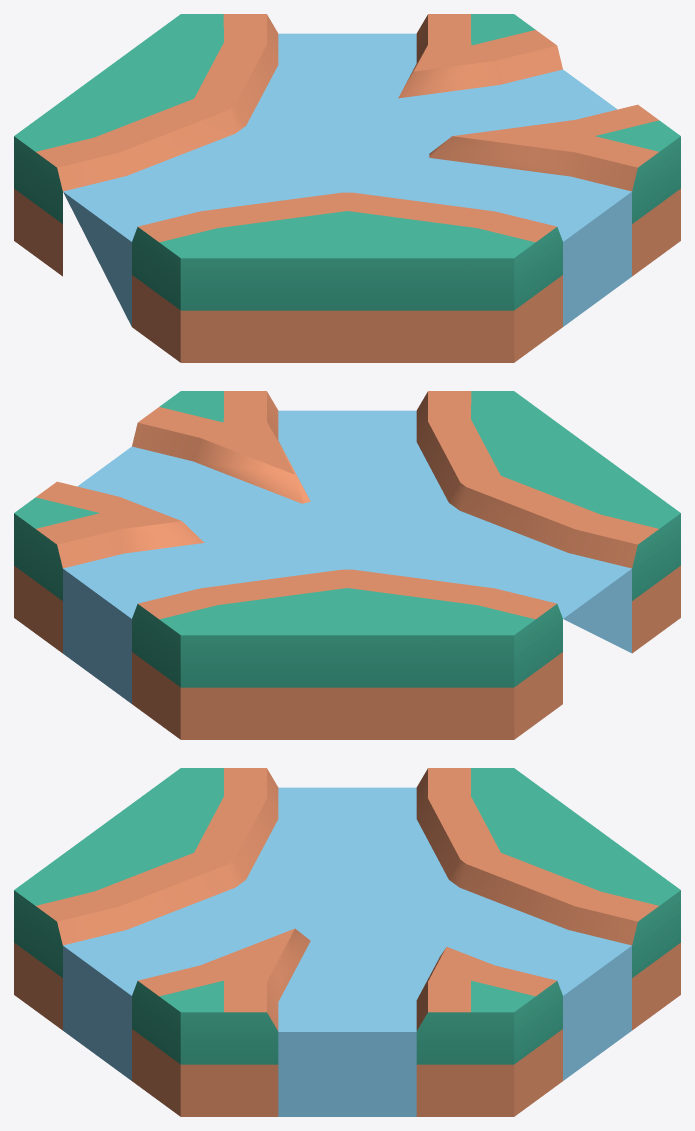
The model's file is kenney-hexagon-river-intersectiond.glb.
3 views of the same model, one above another, from view 1: azimuth 30°, elevation 25°; view 2: azimuth 150°, elevation 25°; view 3: azimuth 270°, elevation 25° (orthographic).
Parts seen in each view (by area): view 1: river_intersectionD; view 2: river_intersectionD; view 3: river_intersectionD.
Boxes of the visible parts, box(x1,y1,x2,y2) form: river_intersectionD: box(14, 14, 680, 362); river_intersectionD: box(14, 391, 680, 739); river_intersectionD: box(14, 768, 680, 1116).
Size of the model in its own units: 1 by 0.2 by 1.15.
Materials: 1 (1 with a texture image).
